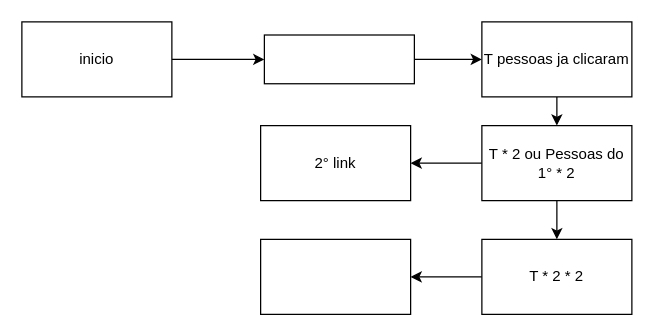
This 654x336 diagram has some shape labels left out. The centre of each missing label's shape, as x and y in pixels:
"1° link" goes at pixel 335 276.
"3° link" goes at pixel 338 59.
